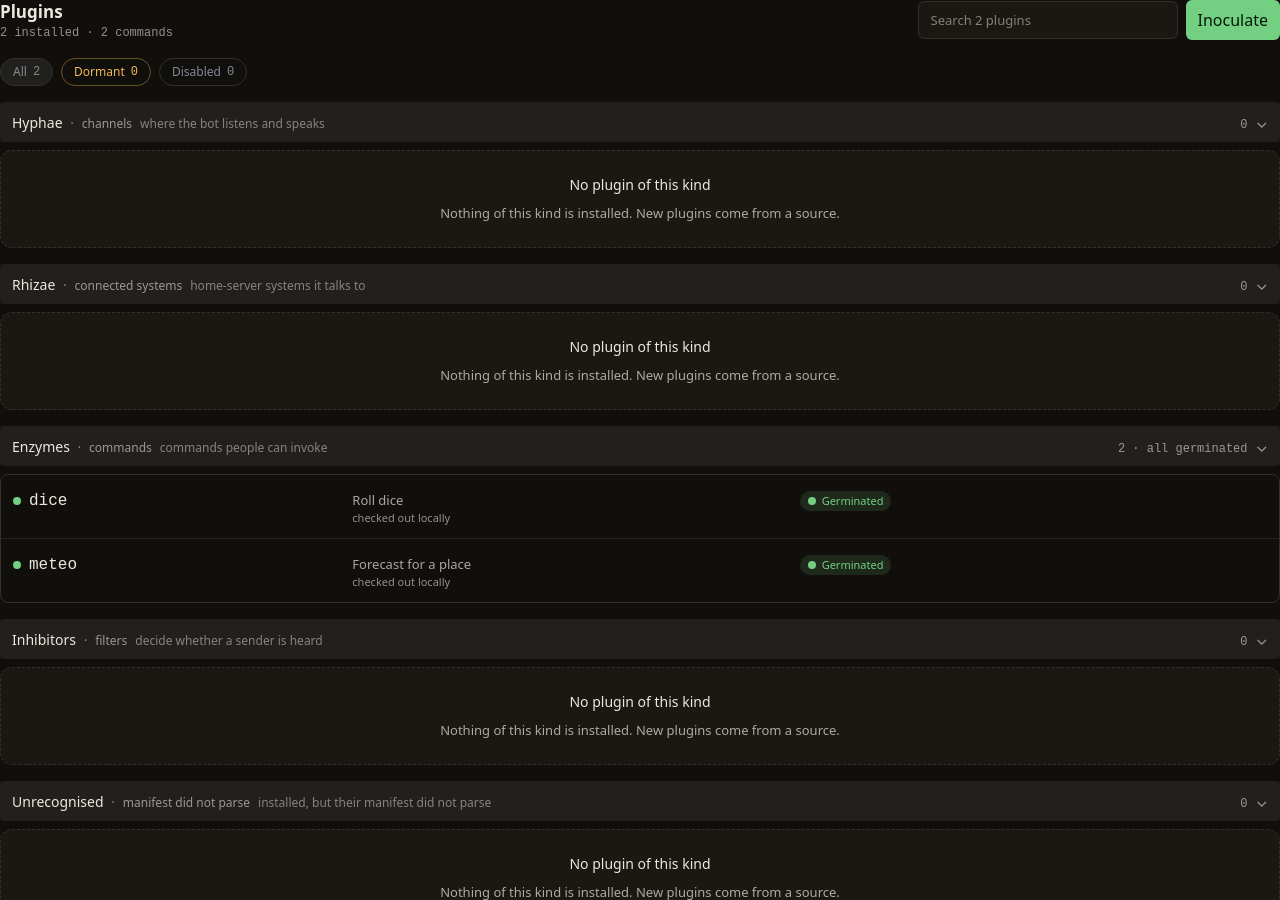
it: an empty list says which of its two causes emptied it › names the state nothing is in when a filter empties the list
Expected: the link "meteo" is shown, x1=29 y1=553 x2=77 y2=577
Click the button "Dormant 0".
click(106, 72)  # box x1=61 y1=58 x2=151 y2=86
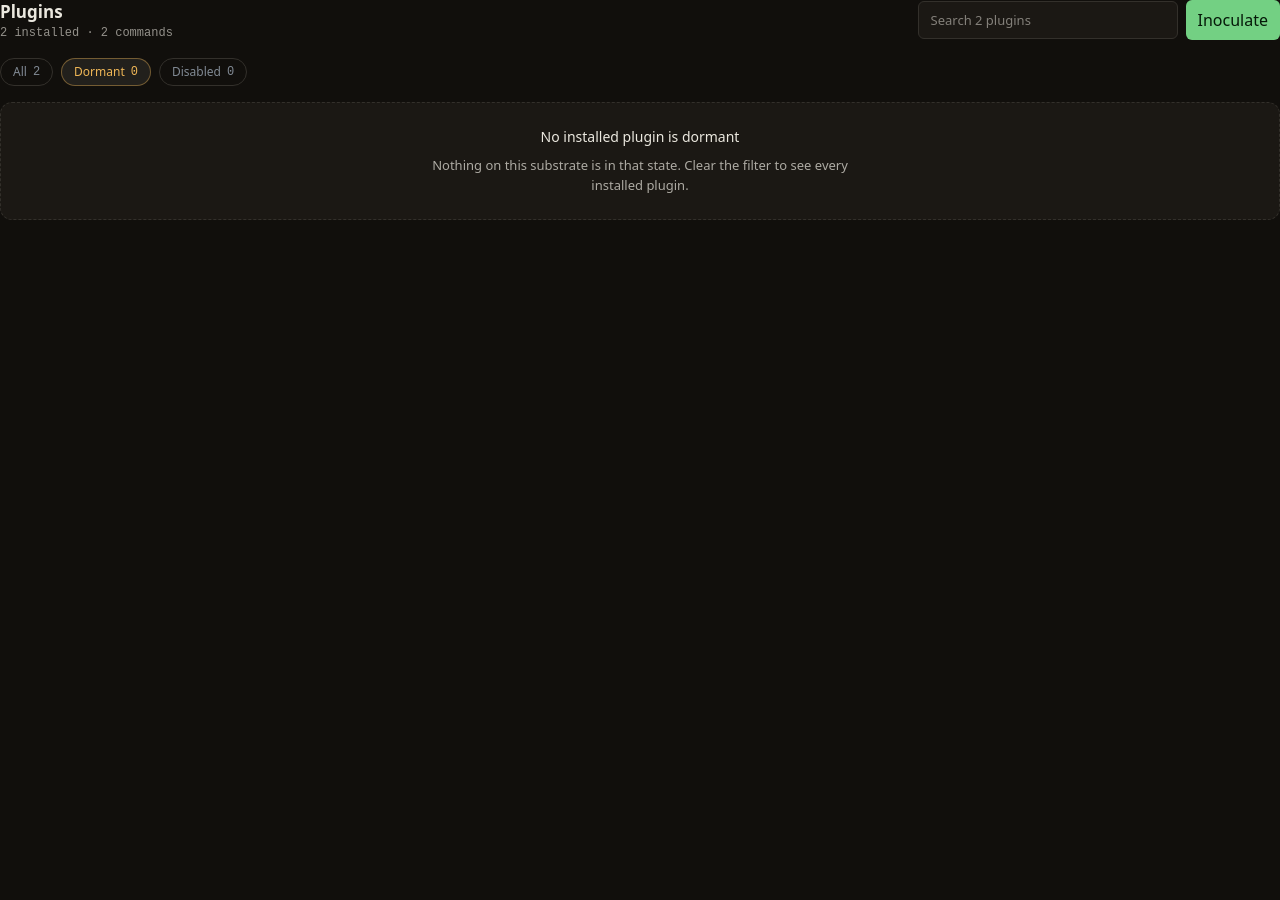
Result: the text "No installed plugin is dormant" is shown at x1=541 y1=127 x2=740 y2=146
